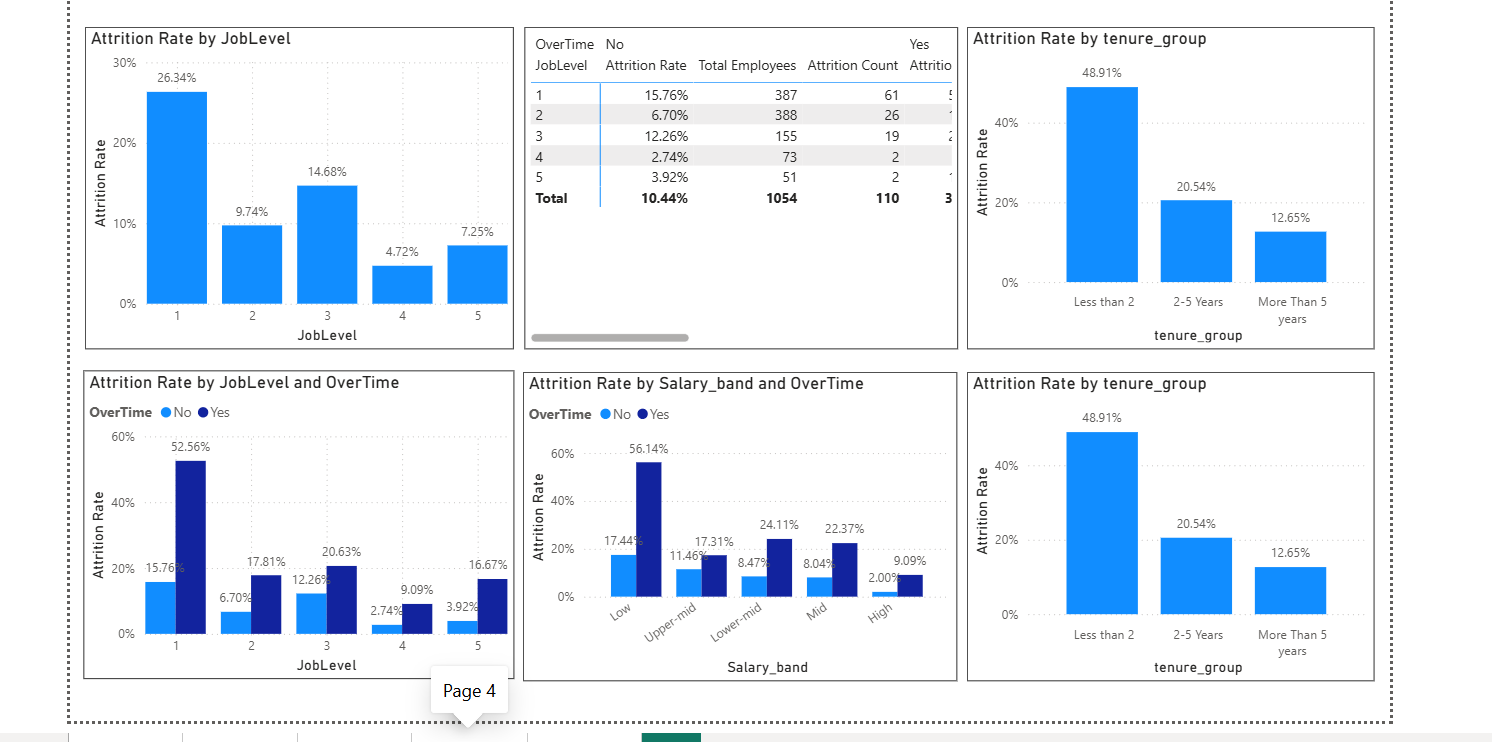

Layout of this report page (visuals, bound fields, positions):
{"tool":"powerbi","page":{"name":"Page 4","canvas":[1280,720],"ordinal":3},"visuals":[{"type":"clusteredColumnChart","fields":{"Y":["employees.Attrition Rate"],"Category":["employees.JobLevel"]},"box":[14.6,47,416.1,312.5],"z":0},{"type":"clusteredColumnChart","fields":{"Category":["employees.JobLevel"],"Y":["employees.Attrition Rate"],"Series":["employees.OverTime"]},"box":[13,380.5,417.8,299.6],"z":1000},{"type":"pivotTable","fields":{"Rows":["employees.JobLevel"],"Columns":["employees.OverTime"],"Values":["employees.Attrition Rate","employees.Total Employees","employees.Attrition Count"]},"box":[440.4,47,421,312.5],"z":2000},{"type":"clusteredColumnChart","fields":{"Category":["employees.Salary_band"],"Y":["employees.Attrition Rate"],"Series":["employees.OverTime"]},"box":[440,381,421,300],"z":3000},{"type":"clusteredColumnChart","fields":{"Y":["employees.Attrition Rate"],"Category":["employees.tenure_group"]},"box":[871.1,47,395.1,312.5],"z":4000},{"type":"clusteredColumnChart","fields":{"Y":["employees.Attrition Rate"],"Category":["employees.tenure_group"]},"box":[871,381,395,300],"z":5000}]}

Visuals, with their boxes on the page's 1280x720 design canvas (x1, y1, x2, y2). These are canvas units, not pixel positions in the 1492x742 screenshot, which may show the page scaled, cropped or inside an application window:
clusteredColumnChart - employees.Attrition Rate x employees.JobLevel: (15,47,431,360)
clusteredColumnChart - employees.JobLevel x employees.Attrition Rate: (13,380,431,680)
pivotTable - employees.JobLevel x employees.OverTime: (440,47,861,360)
clusteredColumnChart - employees.Salary_band x employees.Attrition Rate: (440,381,861,681)
clusteredColumnChart - employees.Attrition Rate x employees.tenure_group: (871,47,1266,360)
clusteredColumnChart - employees.Attrition Rate x employees.tenure_group: (871,381,1266,681)
